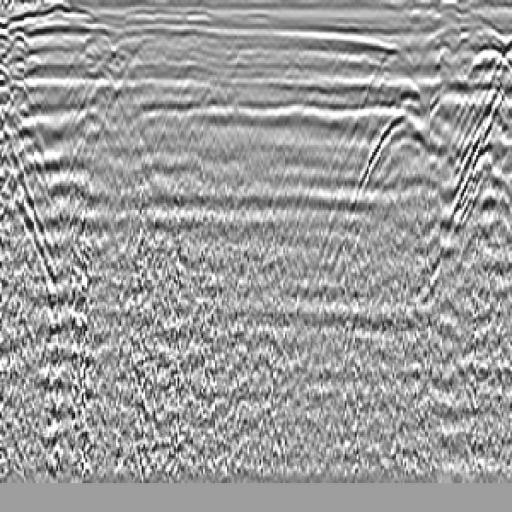metalic: (448, 18, 511, 273)
non-metallic: (333, 72, 484, 281), (2, 31, 69, 310)
